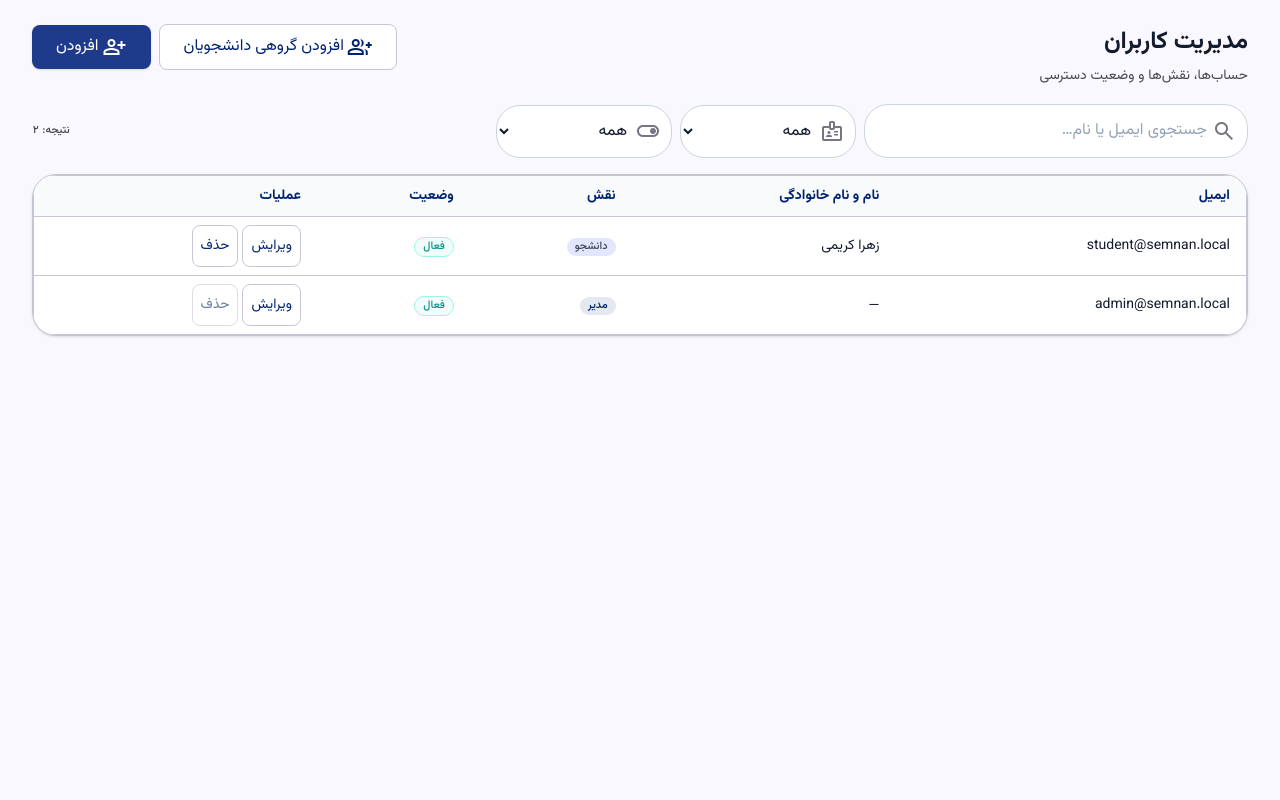
Test: admin users page › keeps the student academic section hidden until the student role is picked
expect the text "student@semnan.local" is shown: met, box [896,216,1246,276]
Click the button "افزودن". click: (91, 47)
box: [32,25,151,69]
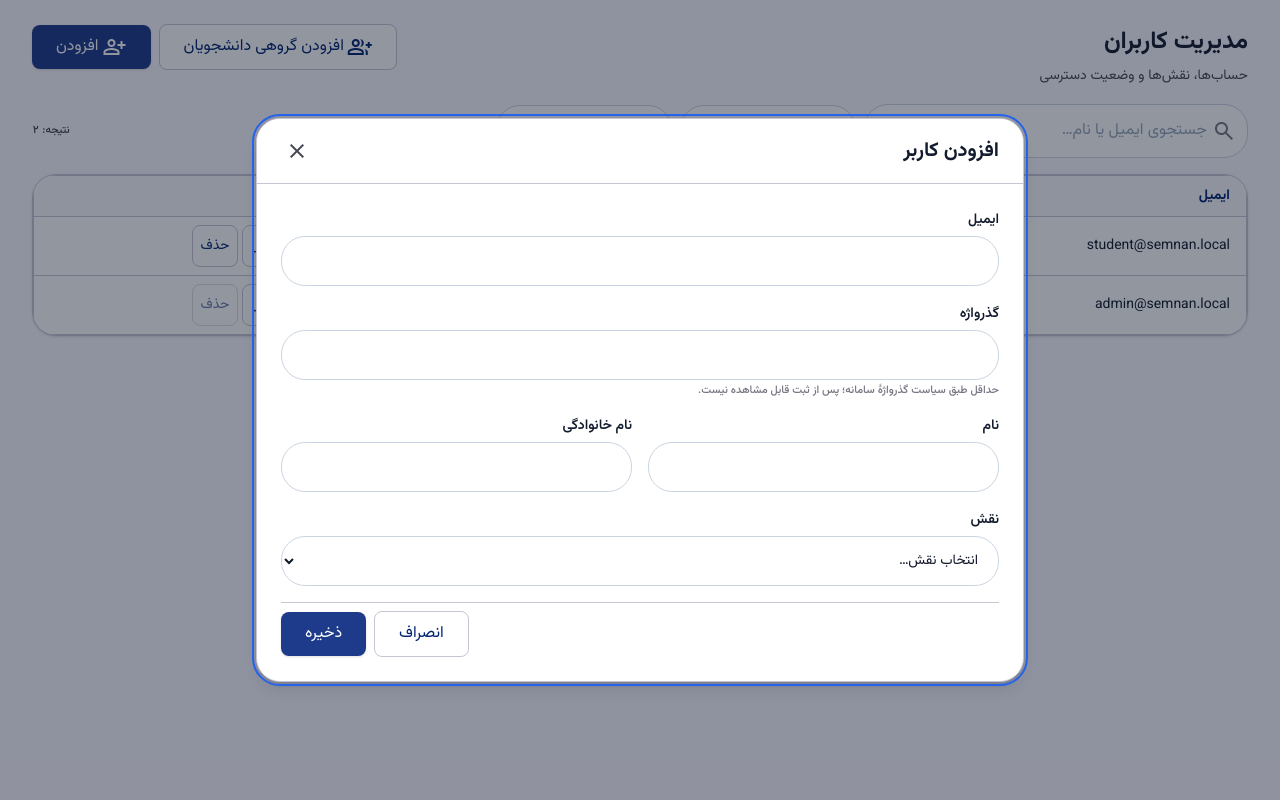
expect the text "اطلاعات تحصیلی دانشجو" is not shown: met
# Selecting دانشجو reveals the section.
Select "دانشجو" in the dropdown labelled "نقش". click: (640, 561)
box: [281,536,999,586]
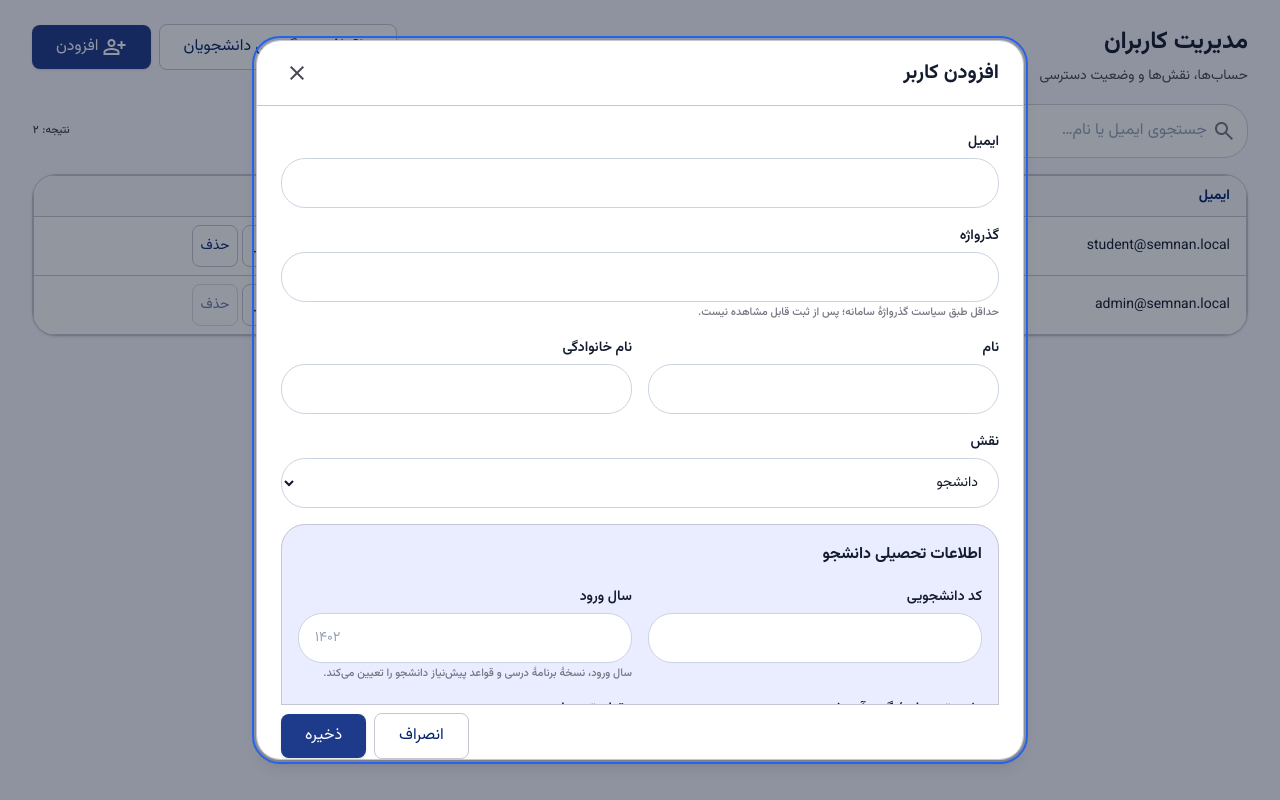
expect the heading "اطلاعات تحصیلی دانشجو" is shown: met, box [823,542,982,567]
# Switching to ADMIN hides it again.
Select "مدیر" in the dropdown labelled "نقش". click: (640, 483)
box: [281,458,999,508]
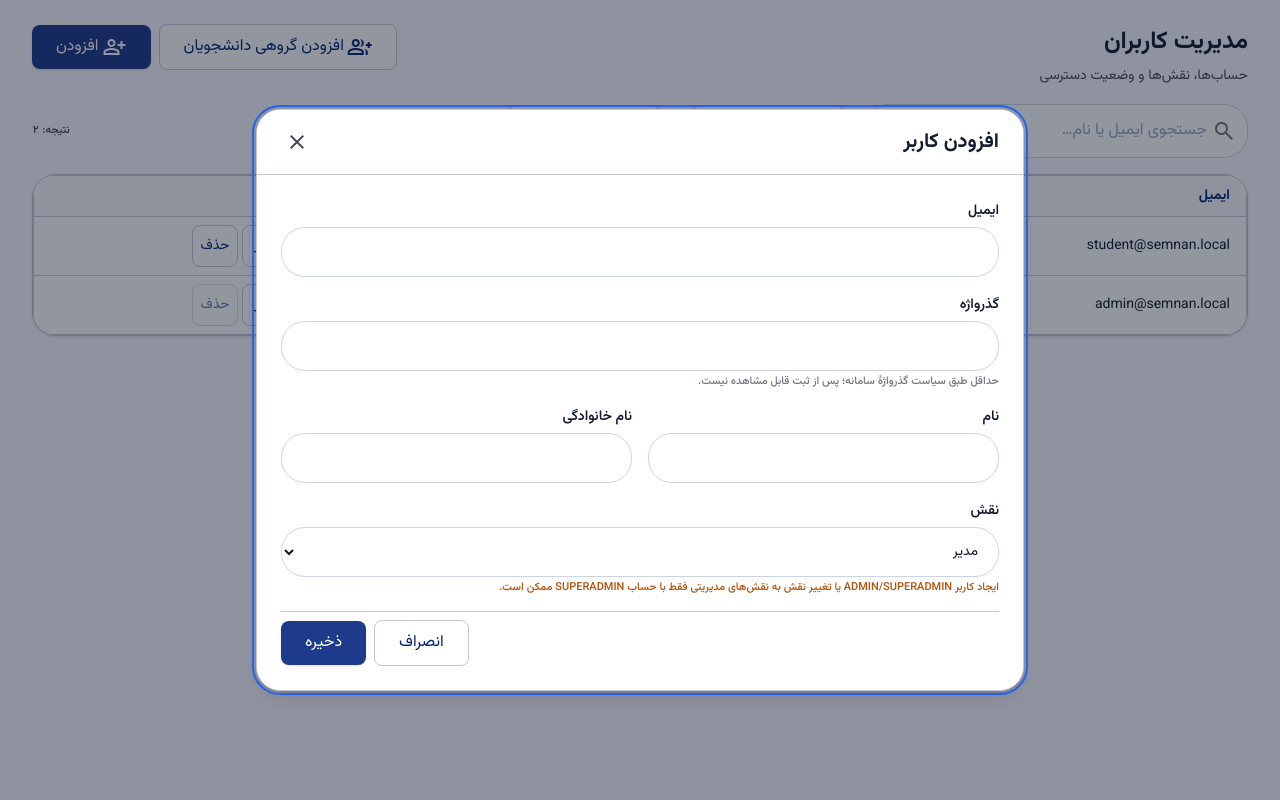
expect the heading "اطلاعات تحصیلی دانشجو" is gone: met
Select "دانشجو" in the dropdown labelled "نقش". click: (640, 552)
box: [281,527,999,577]
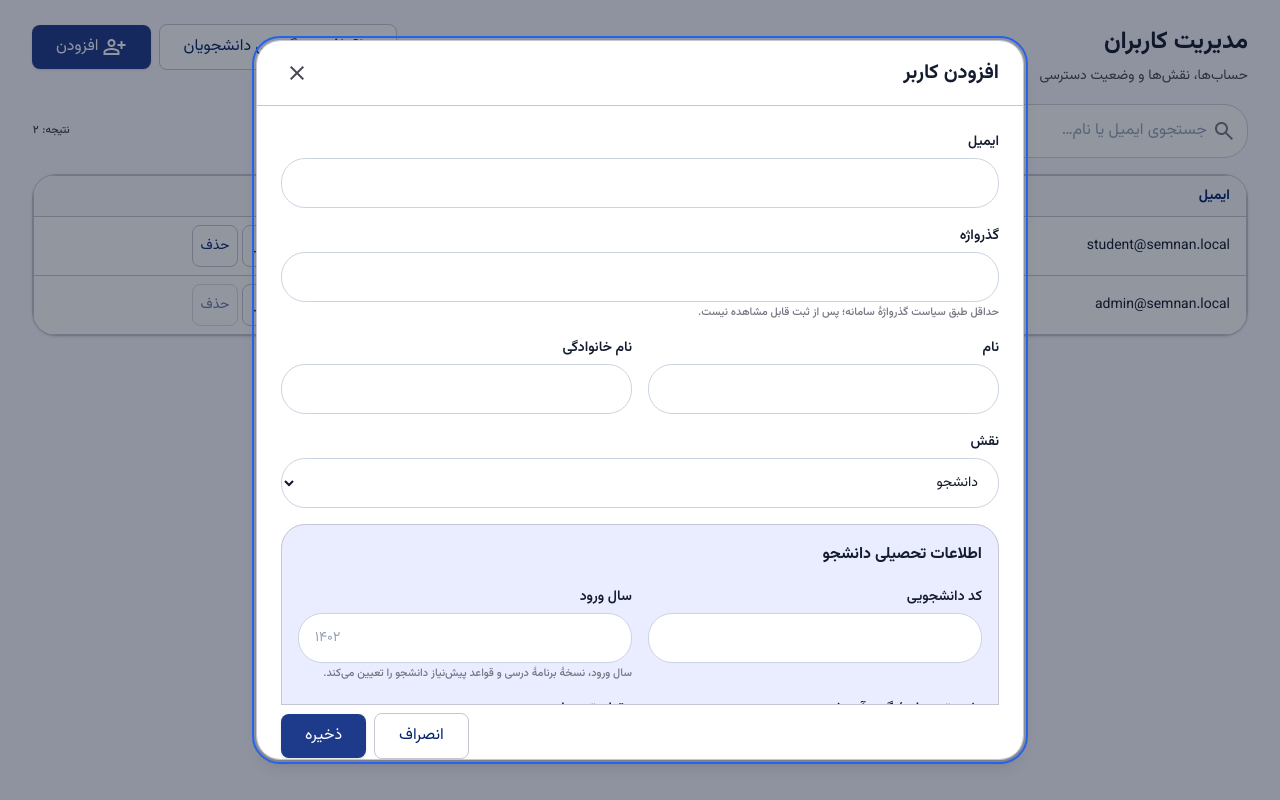
expect the heading "اطلاعات تحصیلی دانشجو" is shown: met, box [823,542,982,567]
